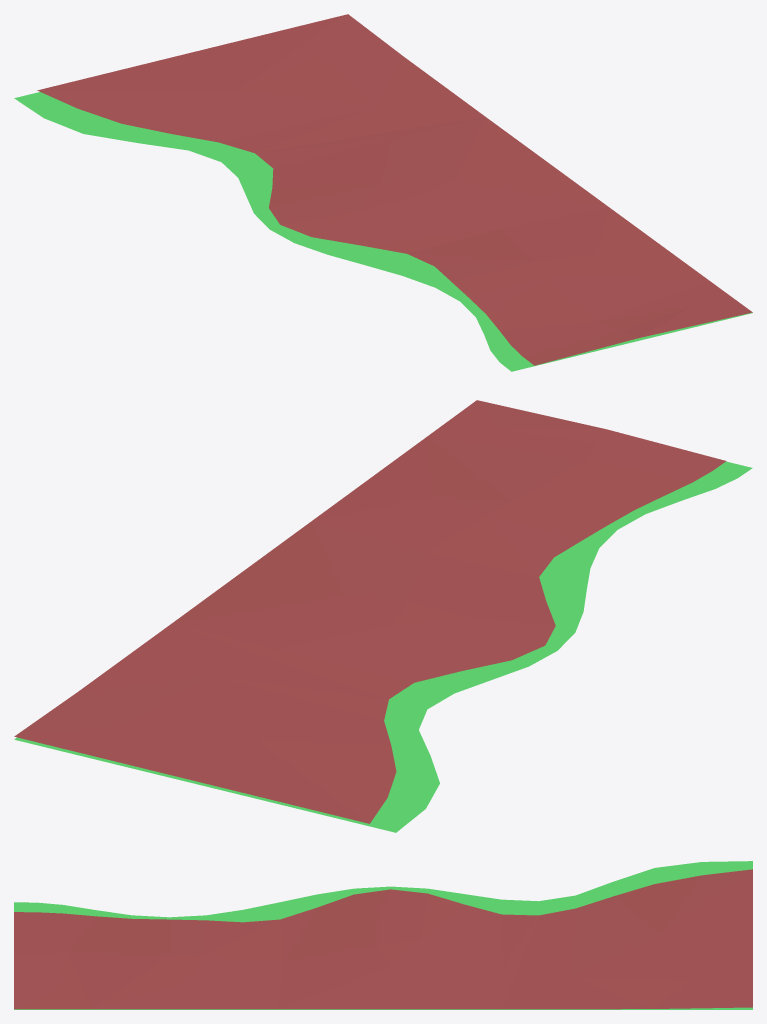
Rendered from ground_02.fbx.
3 renders of one model, top to bottom at view 1: azimuth 30°, elevation 25°; view 2: azimuth 150°, elevation 25°; view 3: azimuth 270°, elevation 25°, orthographic. The views are drawn at different scales.
Visible parts, largest first — view 1: Plane.005; view 2: Plane.005; view 3: Plane.005.
Part boxes in pixels (x1,y1,x2,y2): Plane.005: [14, 14, 752, 371]; Plane.005: [14, 400, 752, 832]; Plane.005: [14, 861, 752, 1009].
Size of the model in its own units: 291 by 2.94 by 610.
